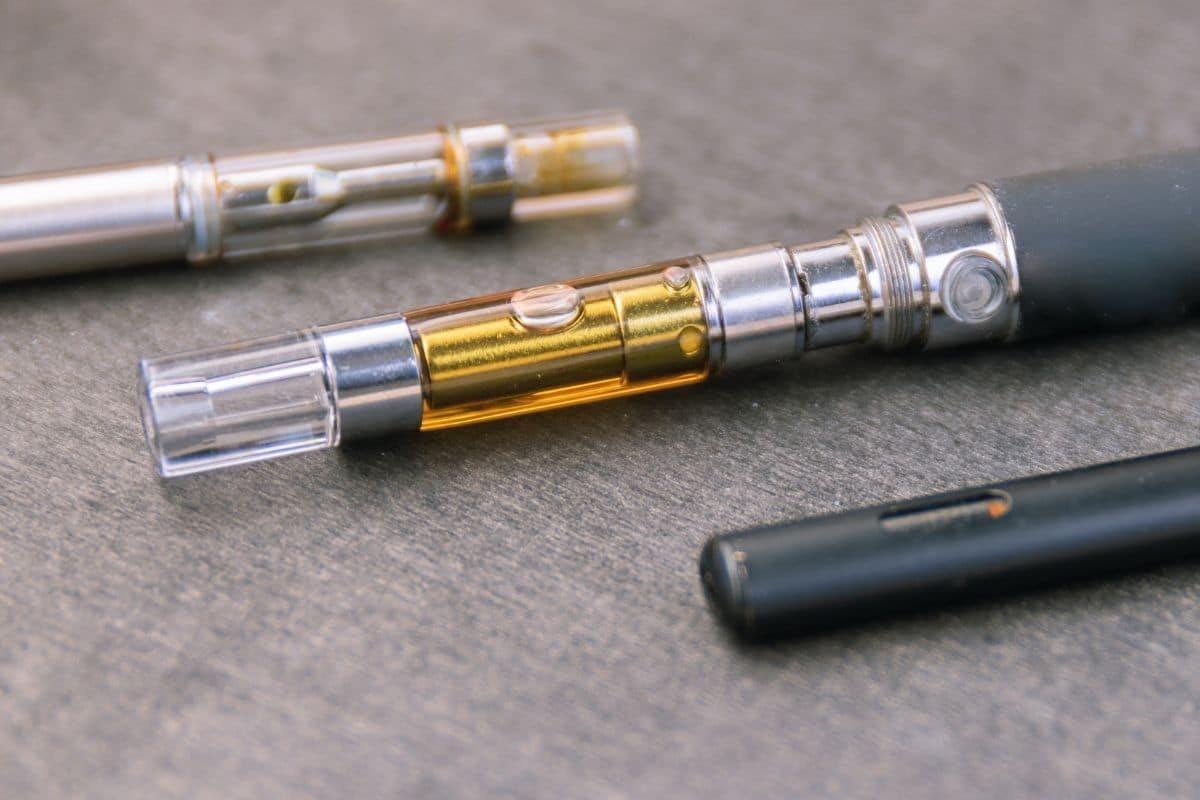weed_pen: (0, 32, 1200, 799)
